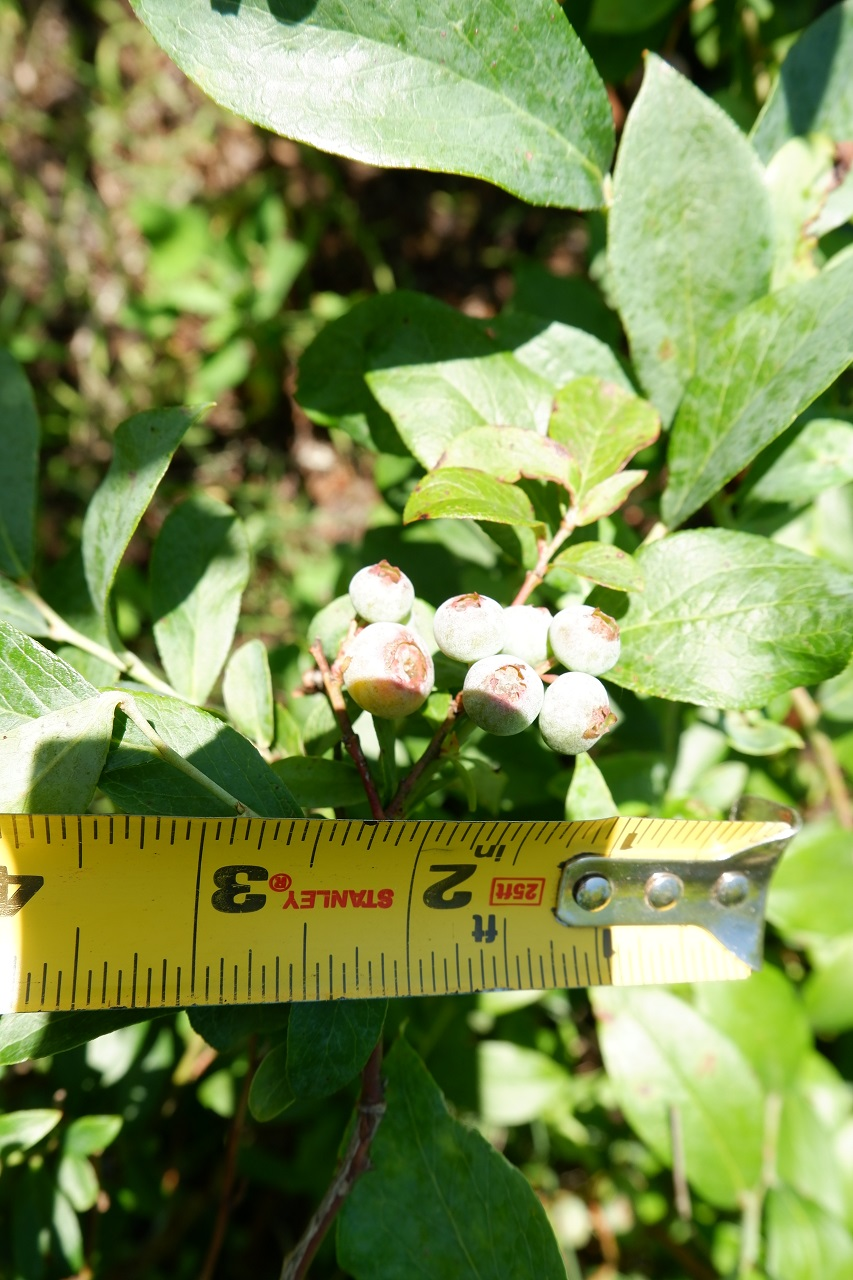Immature: (343, 622, 435, 719), (463, 654, 546, 736), (539, 671, 616, 755), (433, 593, 511, 664), (547, 605, 623, 675), (349, 559, 415, 623), (498, 603, 560, 671)
